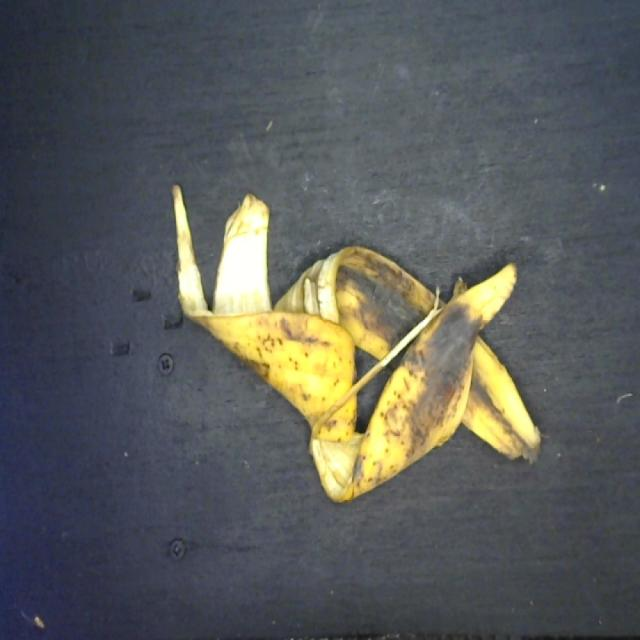biodegradable: (167, 172, 544, 512)
